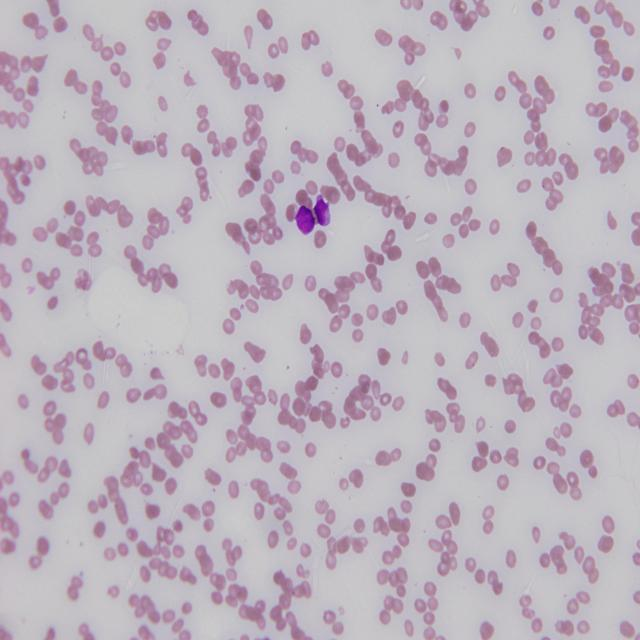cell: (295, 206, 315, 234), (314, 194, 330, 226)
